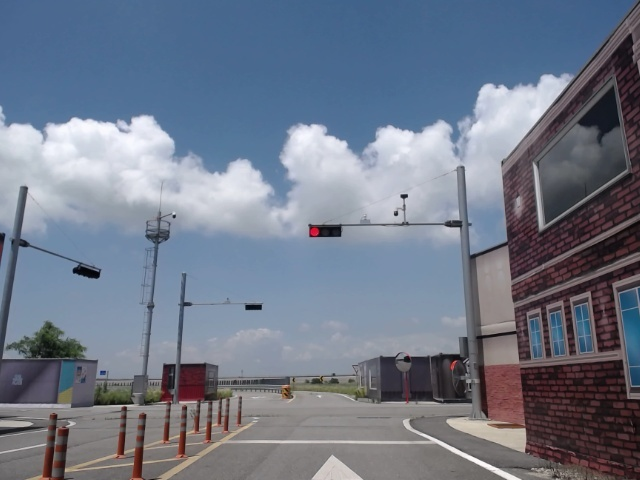red_3: (309, 225, 342, 237)
